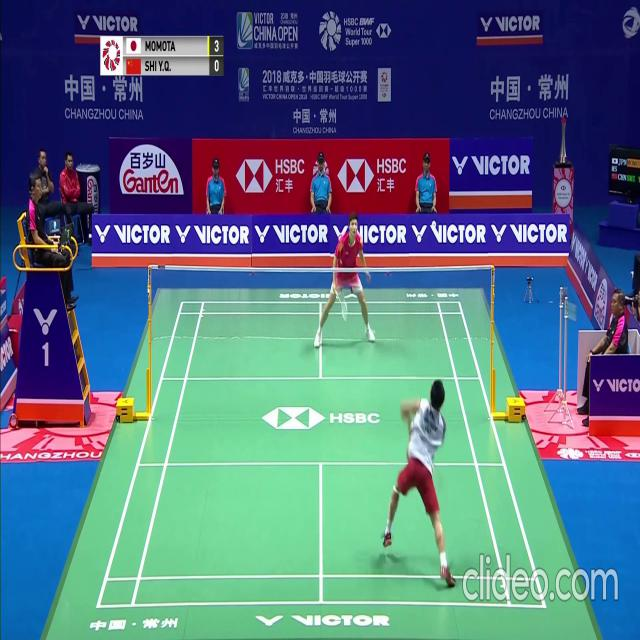Shuttlecock: (431, 221, 436, 228)
